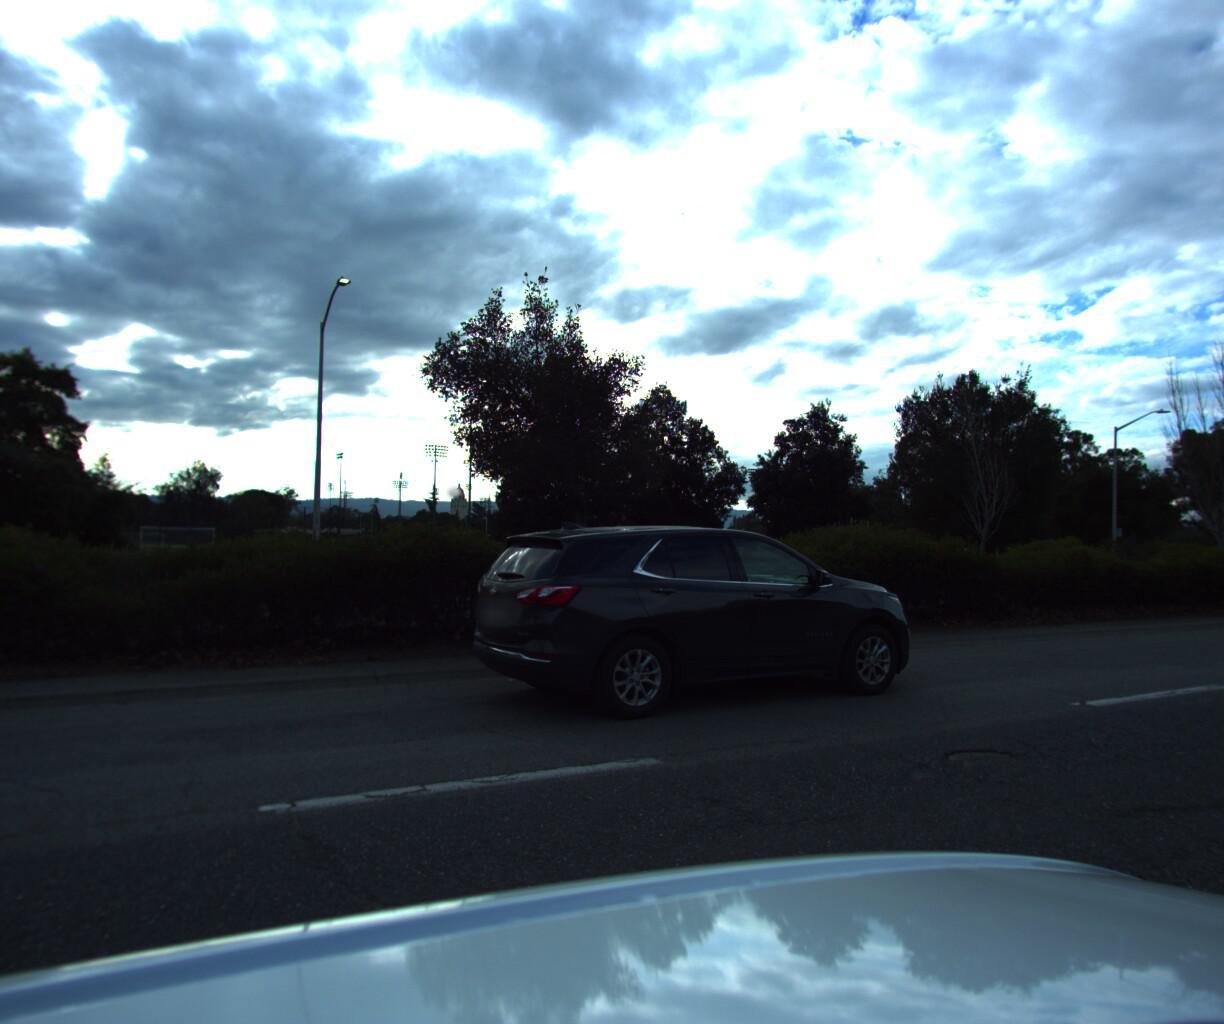car: (439, 522, 929, 735)
